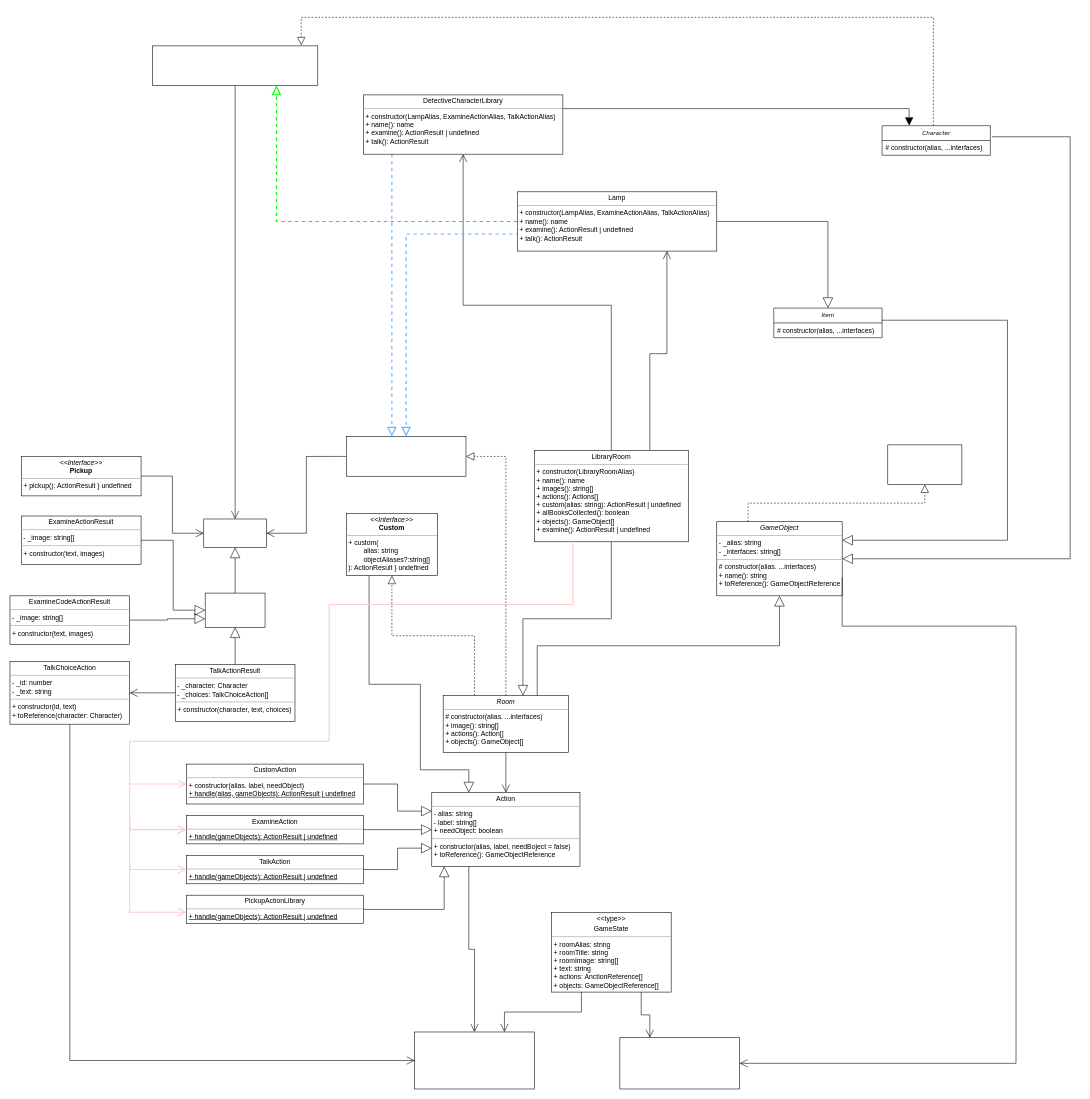
This 1090x1099 diagram has some shape labels left out. Here are the shapes that lost their labels. From the top down, the centre of each, then its label:
the point at 235,65: <<Interface>> Talk + talk(choiceId?: number): ActionResult } undefined
the point at 406,456: <<Interface>> Examine + examine(): ActionResult } undefined
the point at 924,464: <<Interface>> HasInterface + interfaces(): string[]
the point at 234,532: ActionResult
the point at 235,610: TextActionResult - _text: string[]
the point at 474,1060: <<type>> ActionReference + alias: string + label: string + needObject: boolean
the point at 679,1063: <<type>> GameObjectsReference + alias: string + label: string
